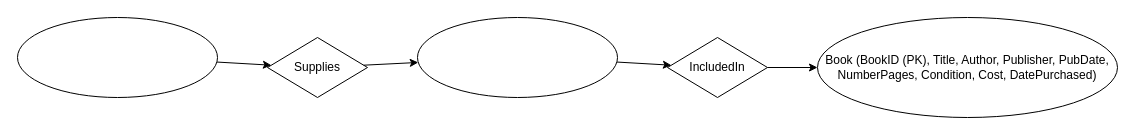
This 1135x135 diagram has some shape labels left out. Each missing label, with the centre of its shape:
Purchase (PurchaseID (PK), PurchaseDate, TotalAmount): point 517,57
Seller (SellerID (PK), Name, ContactInfo): point 117,57
